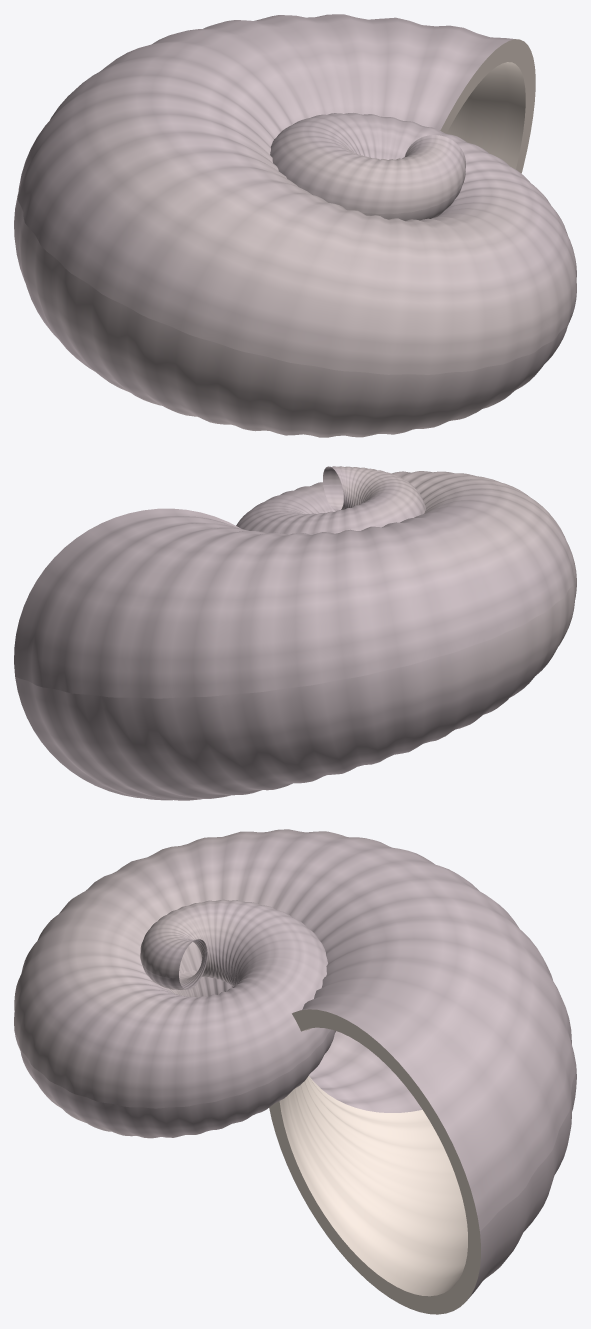
Rendered from moon-snail.glb.
The picture shows the model from 3 angles, top to bottom: view 1: azimuth 30°, elevation 25°; view 2: azimuth 150°, elevation 25°; view 3: azimuth 270°, elevation 25°; orthographic projection. The views are drawn at different scales.
Parts seen in each view (by area): view 1: moon-snail; view 2: moon-snail; view 3: moon-snail.
Part boxes in pixels (left/top/right/bottom): moon-snail: left=14, top=14, right=576, bottom=437; moon-snail: left=14, top=466, right=576, bottom=800; moon-snail: left=14, top=829, right=576, bottom=1314.
Bounding box in the file's own units: 1.66 × 1.08 × 1.62.
